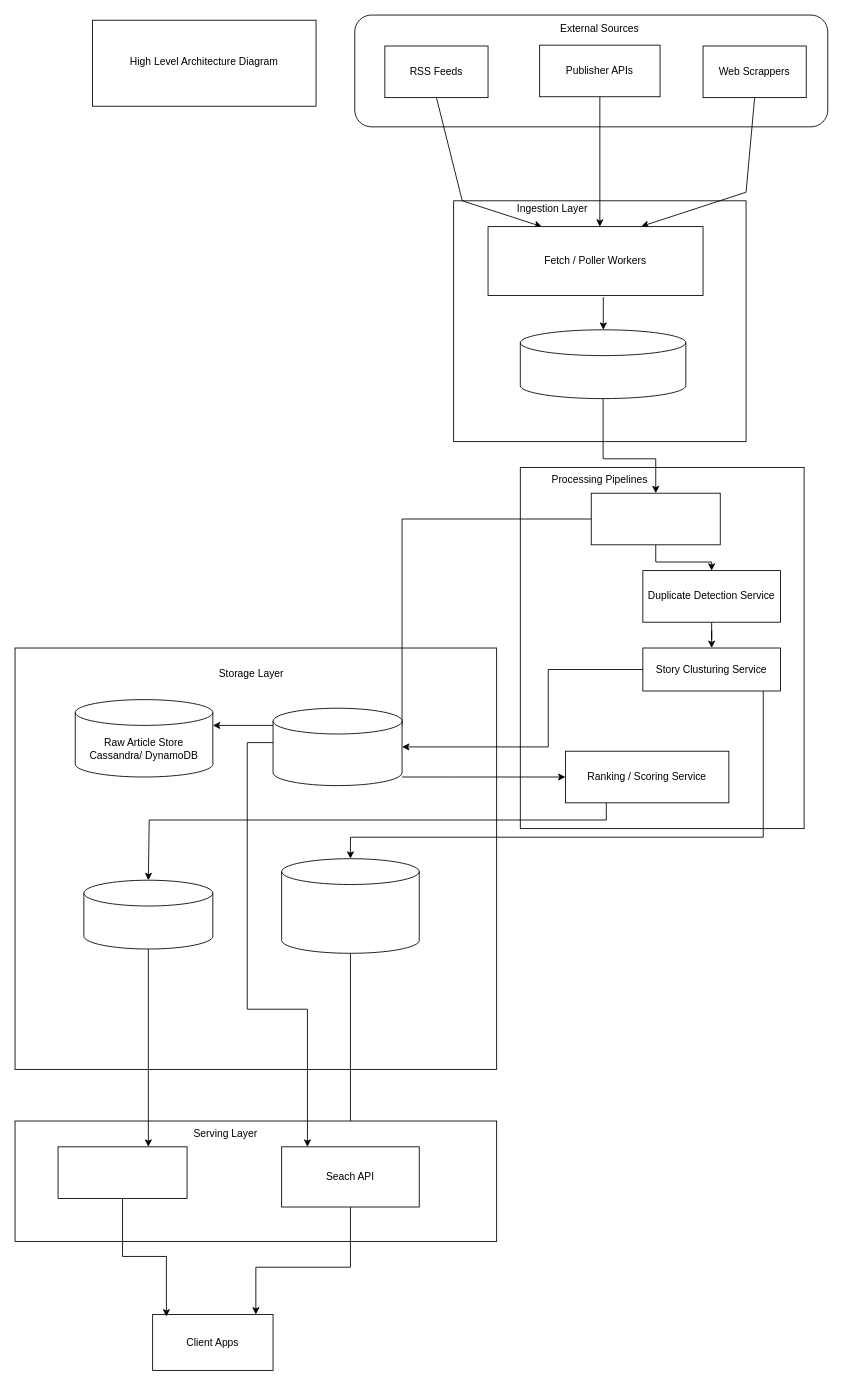
Some shapes in this 843 by 1385 pixel diagram are drawn without their labels. The centre of each missing label's shape, as x and y in pixels:
Feed API: (x=122, y=1172)
Feed Cache - Redis: (x=148, y=914)
Message Queue - Kafka: (x=602, y=364)
Normalization Service: (x=655, y=518)
Story DB Story to Article Mapping: (x=337, y=746)
Vector/ Embedding Index FAISS or Elastisearch: (x=350, y=905)
